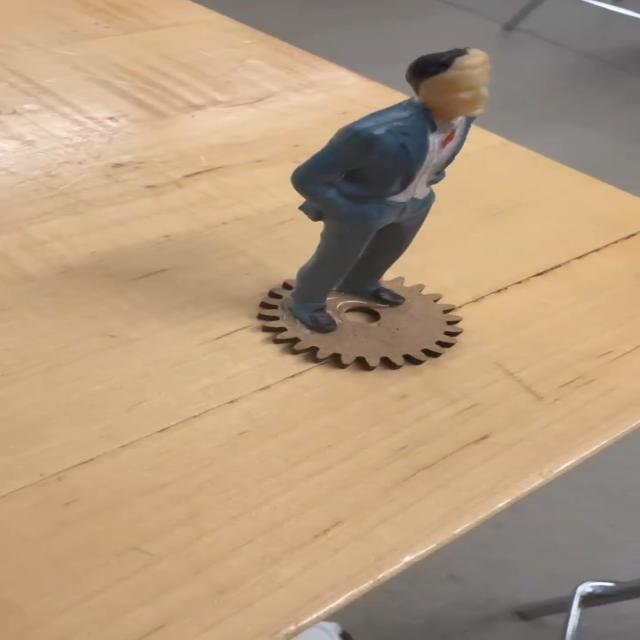Authorized: (271, 45, 513, 345)
